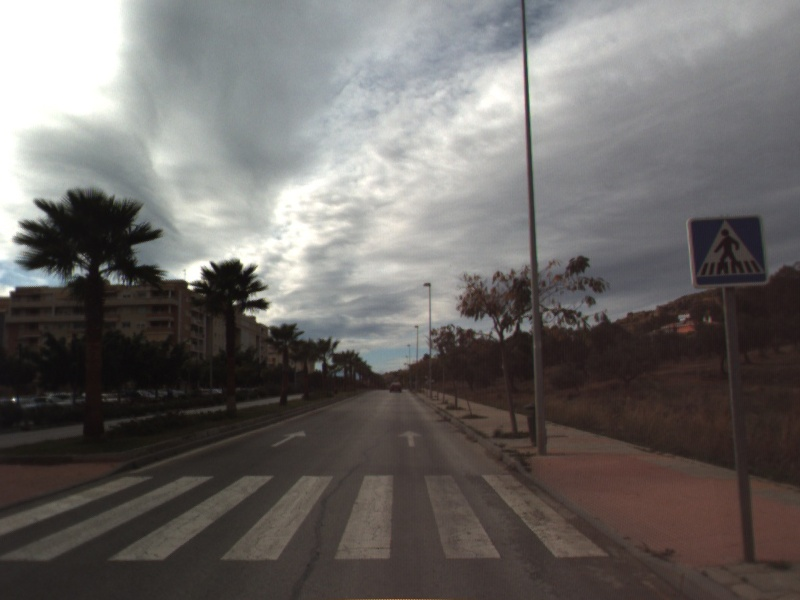STRAIGHT: (269, 428, 308, 449), (396, 428, 424, 449)
